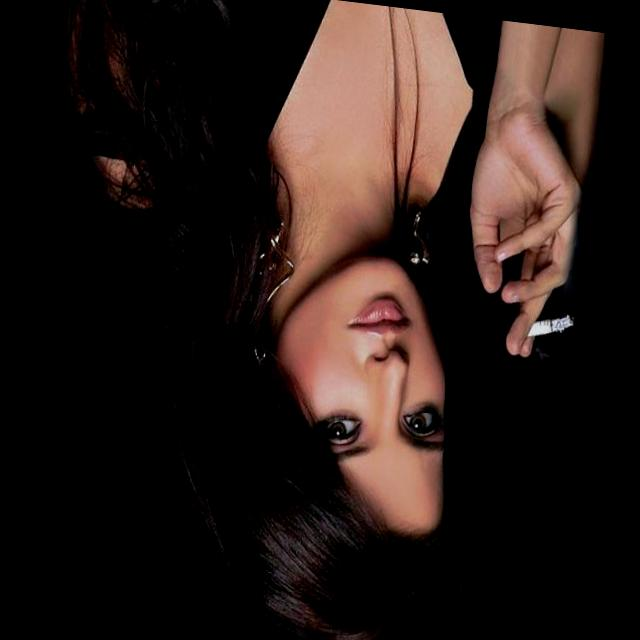smoke: (513, 302, 592, 360)
